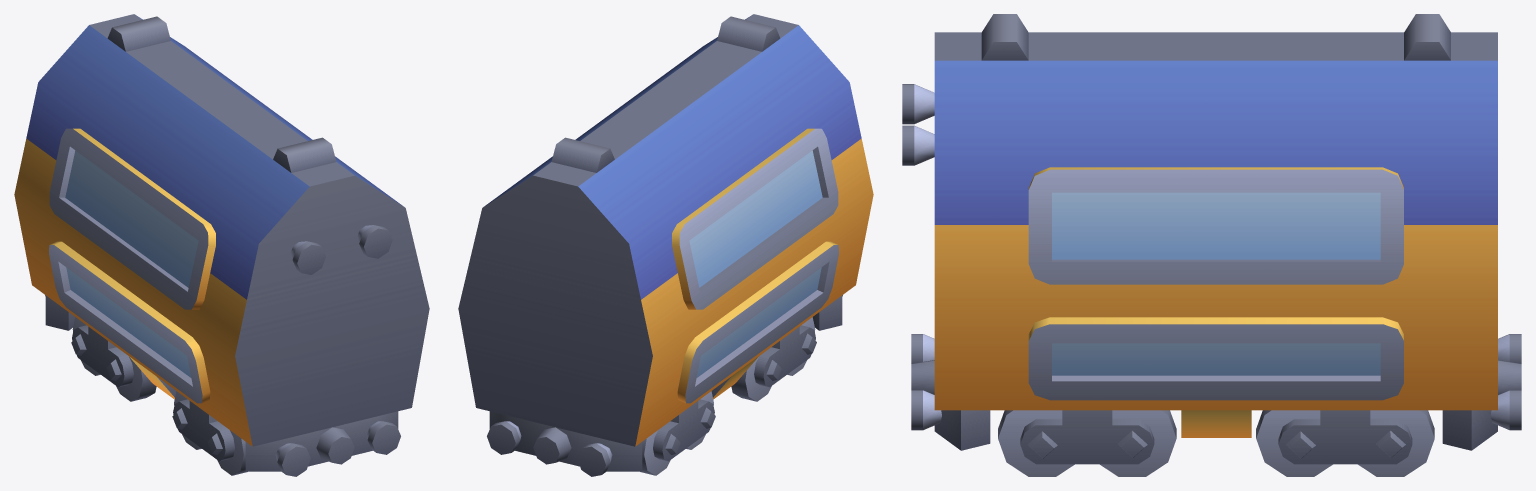
Rendered from train-electric-double-c.glb.
3 views of the same model, side by side, from view 1: azimuth 30°, elevation 25°; view 2: azimuth 150°, elevation 25°; view 3: azimuth 270°, elevation 25° (orthographic). The views are drawn at different scales.
Visible parts, largest first — view 1: train-electric-double-c; view 2: train-electric-double-c; view 3: train-electric-double-c.
Part boxes in pixels (<box>): train-electric-double-c: <box>14,14,429,476</box>; train-electric-double-c: <box>458,14,873,476</box>; train-electric-double-c: <box>902,14,1521,476</box>.
Bounding box in the file's own units: 1.28 × 1.92 × 2.64.
Materials: 1 (1 with a texture image).
